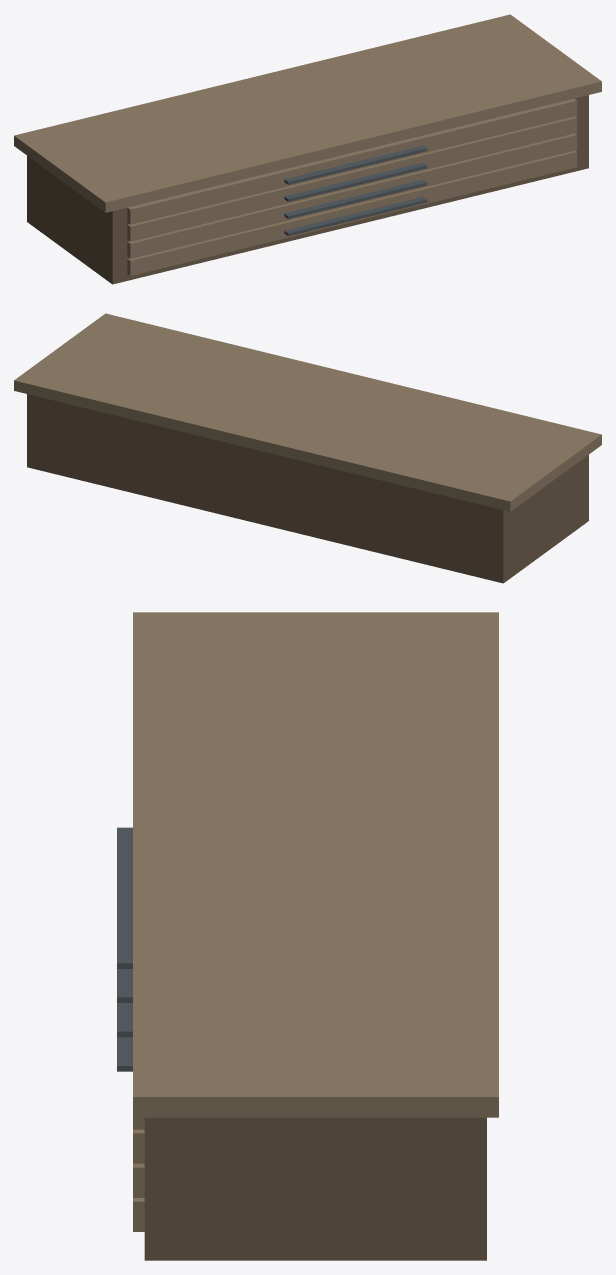
Rendered from map_cabinet.glb.
The picture shows the model from 3 angles, top to bottom: view 1: azimuth 30°, elevation 25°; view 2: azimuth 150°, elevation 25°; view 3: azimuth 270°, elevation 25°; orthographic projection. The views are drawn at different scales.
Parts seen in each view (by area): view 1: map_cabinet; view 2: map_cabinet; view 3: map_cabinet.
Part boxes in pixels (x1,y1,x2,y2): map_cabinet: (14,14,601,284); map_cabinet: (14,313,601,583); map_cabinet: (117,612,498,1260).
Size of the model in its own units: 2.88 by 0.48 by 0.96.
